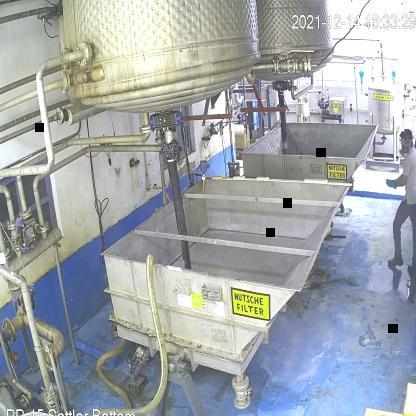shoes: (387, 251, 405, 270)
